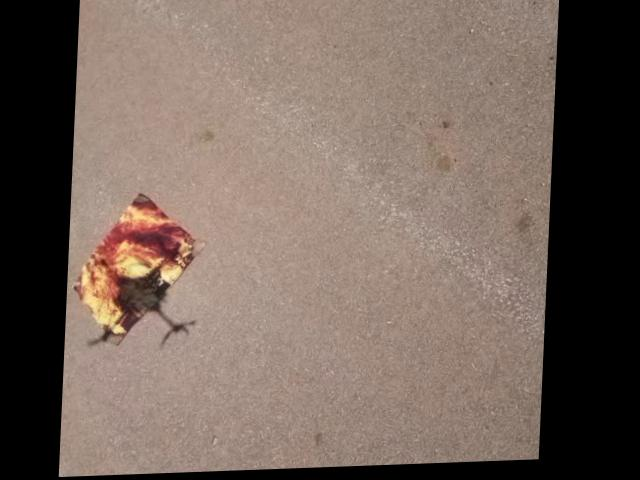fire-poster: (72, 191, 206, 349)
